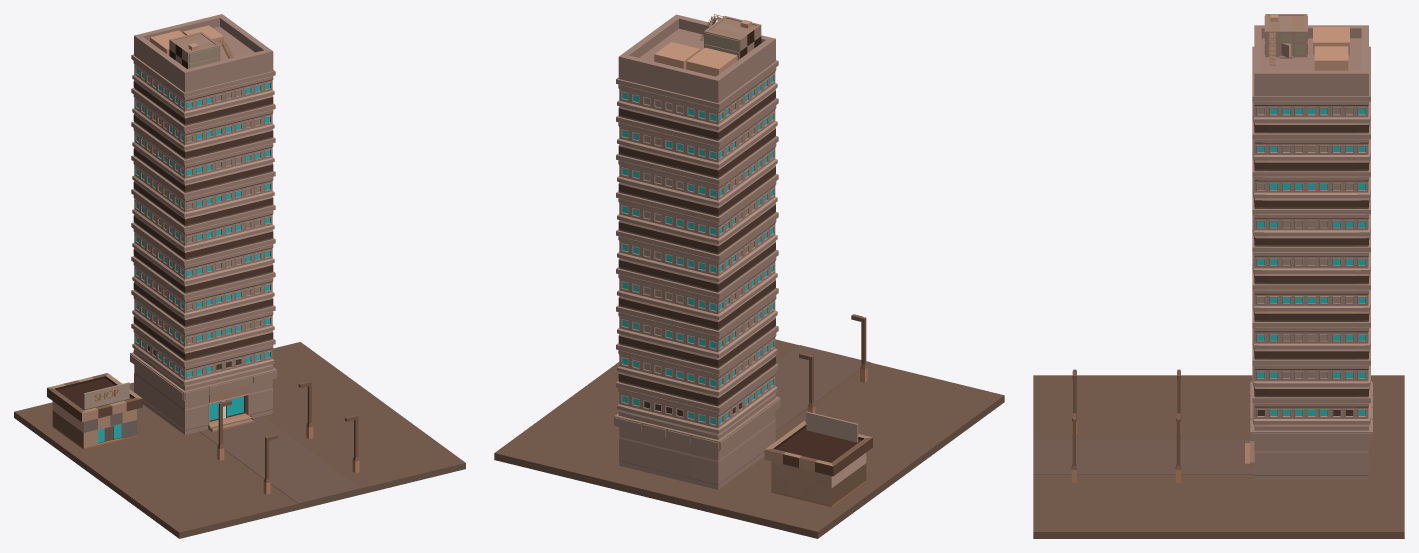
File: City center at night .obj
3 renders of one model, left to right at view 1: azimuth 30°, elevation 25°; view 2: azimuth 150°, elevation 25°; view 3: azimuth 270°, elevation 25°, orthographic. The views are drawn at different scales.
Visible parts, largest first — view 1: Plane, Plane.003, Plane.005, Plane.007, Plane.014; view 2: Plane, Plane.003, Plane.005, Plane.014, Plane.007; view 3: Plane.003, Plane, Plane.005, Plane.007.
Boxes of the visible parts, box(x1,y1,x2,y2) form: Plane: box(131, 54, 275, 390); Plane.003: box(14, 342, 465, 538); Plane.005: box(130, 14, 277, 434); Plane.007: box(199, 416, 360, 503); Plane.014: box(47, 373, 142, 449); Plane: box(616, 60, 778, 439); Plane.003: box(494, 339, 1004, 538); Plane.005: box(614, 14, 780, 489); Plane.014: box(764, 411, 872, 507); Plane.007: box(775, 345, 870, 431); Plane.003: box(1033, 375, 1404, 538); Plane: box(1252, 46, 1370, 430); Plane.005: box(1245, 14, 1372, 480); Plane.007: box(1033, 439, 1254, 474).
Bounding box in the file's own units: 6.53 × 8.41 × 6.53.
3 materials, 1 textured.
